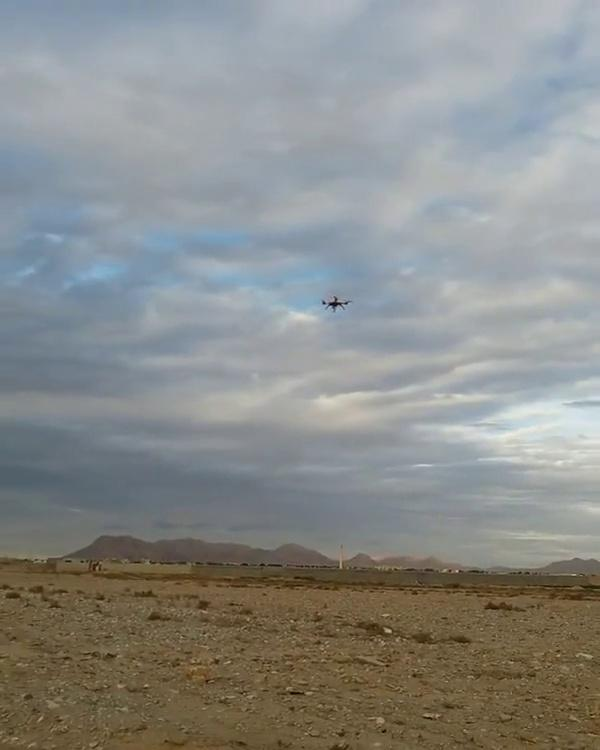drone: (314, 290, 352, 318)
